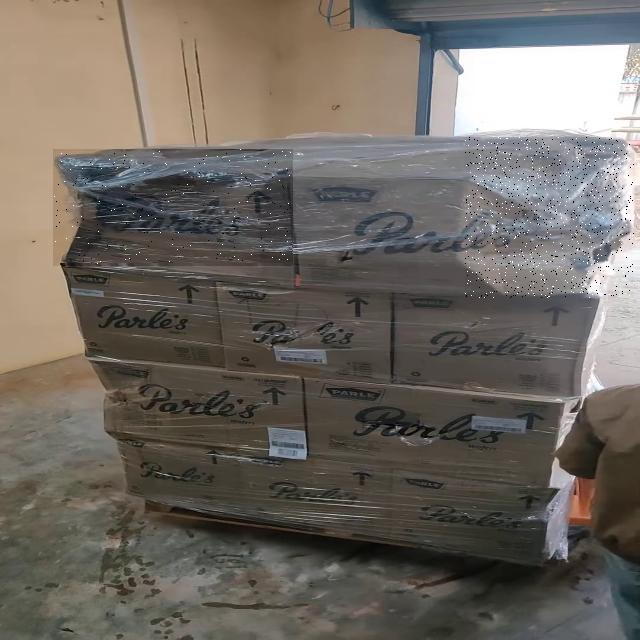squeeze: (54, 150, 292, 264), (466, 137, 634, 298)
